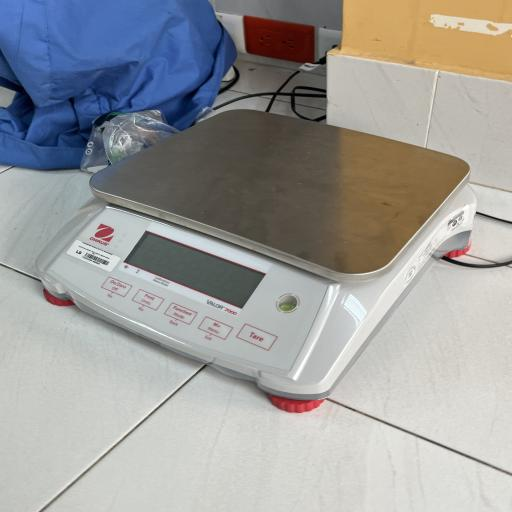Balanza_Granataria_Ohaus: (28, 99, 491, 422)
